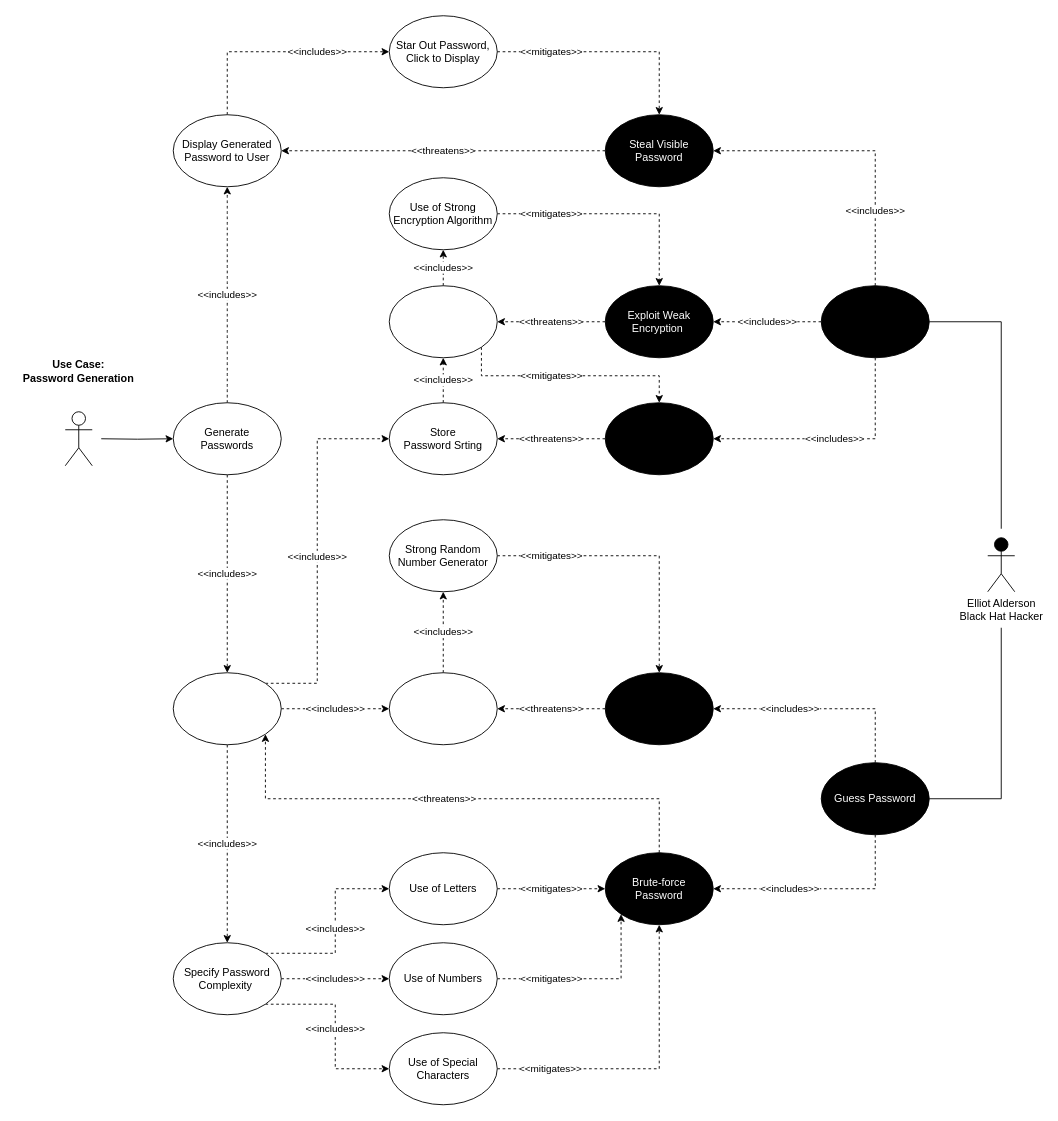
The diagram is 1058 pixels wide and 1121 high, and some of its shapes have lost their labels. Here are the shapes that lost their labels. From the top down, the centre of each, then its label:
the point at 442,321: Encrypt Stored Password
the point at 874,321: Steal Password
the point at 78,438: Bob Smith Average Employee (C+ Annual Review)
the point at 658,438: Access Plain-text Password
the point at 226,708: Generate Password String
the point at 442,708: Random Number Generation
the point at 658,708: Exploit Weak Random Number Generator
